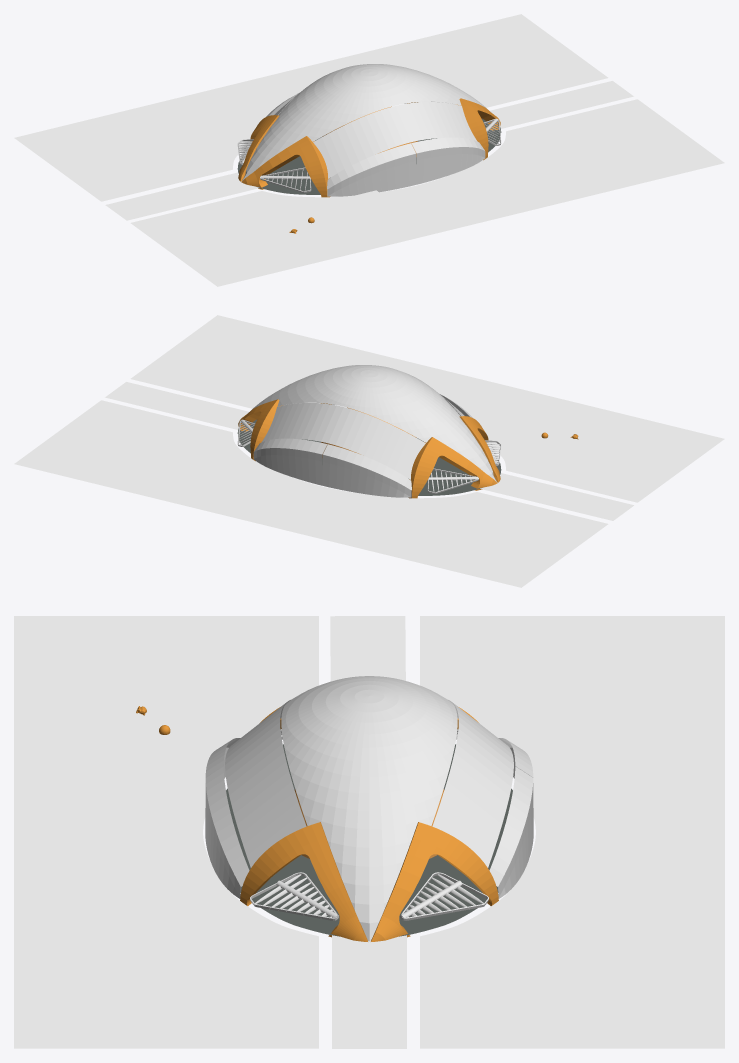
The model's file is hemisferic.glb.
3 renders of one model, top to bottom at view 1: azimuth 30°, elevation 25°; view 2: azimuth 150°, elevation 25°; view 3: azimuth 270°, elevation 25°, orthographic. The views are drawn at different scales.
Visible parts, largest first — view 1: pool.001, egg_dome.009, hemi_3.007, walkway_l, walkway_r, hemi_floor, wing_frame.003, Plane.008; view 2: pool.001, egg_dome.009, hemi_3.007, walkway_l, walkway_r, hemi_floor, wing_frame.003, Plane.008; view 3: pool.001, egg_dome.009, hemi_3.007, walkway_r, hemi_floor, walkway_l, wing_frame.003, Plane.008.
Boxes of the visible parts, box(x1,y1,x2,y2) form: pool.001: box(14, 14, 724, 286); egg_dome.009: box(242, 64, 490, 196); hemi_3.007: box(238, 98, 500, 197); walkway_l: box(105, 172, 259, 220); walkway_r: box(489, 81, 633, 128); hemi_floor: box(237, 118, 501, 194); wing_frame.003: box(237, 101, 501, 192); Plane.008: box(348, 190, 392, 208); pool.001: box(14, 315, 724, 587); egg_dome.009: box(248, 365, 496, 497); hemi_3.007: box(238, 399, 500, 498); walkway_l: box(480, 473, 633, 520); walkway_r: box(105, 382, 249, 429); hemi_floor: box(237, 419, 501, 495); wing_frame.003: box(237, 402, 501, 493); Plane.008: box(471, 400, 514, 419); pool.001: box(14, 616, 724, 1048); egg_dome.009: box(205, 676, 533, 941); hemi_3.007: box(240, 707, 498, 941); walkway_r: box(332, 935, 406, 1048); hemi_floor: box(226, 744, 512, 936); walkway_l: box(330, 616, 405, 681); wing_frame.003: box(250, 729, 488, 920); Plane.008: box(123, 748, 180, 772).
Bounding box in the file's own units: 178 × 27.16 × 124.
